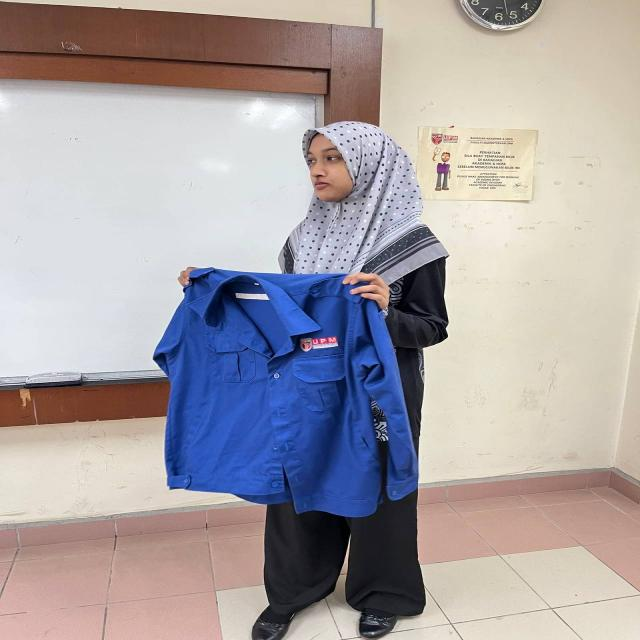person_without_labcoat: (154, 122, 447, 640)
